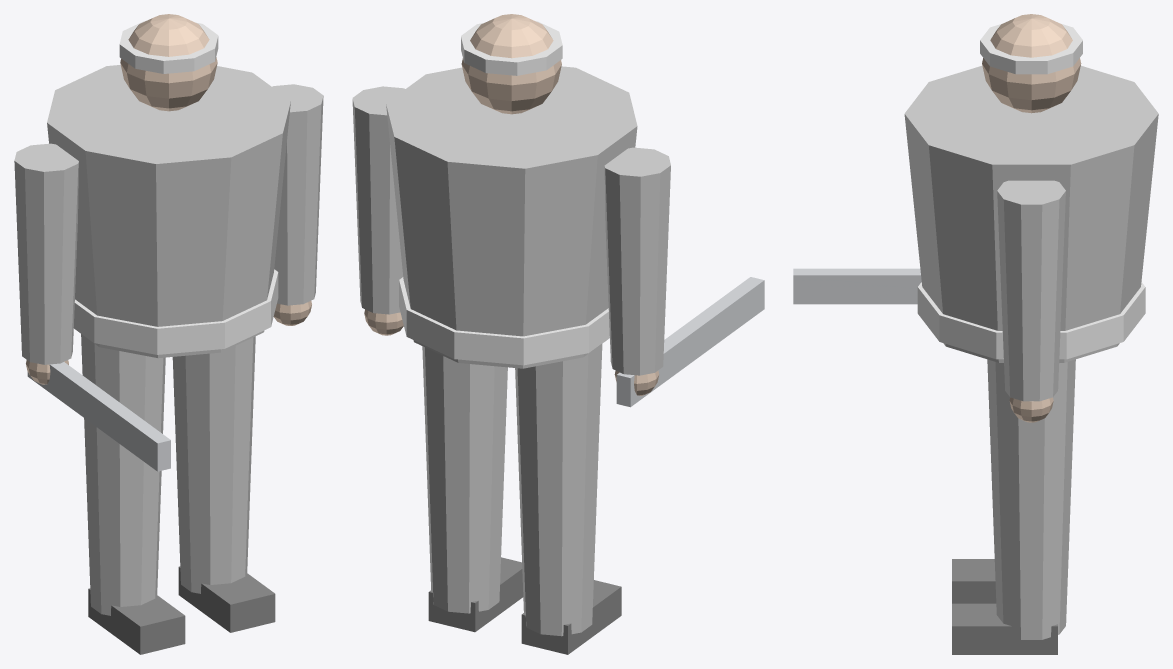
The picture shows the model from 3 angles, left to right: view 1: azimuth 30°, elevation 25°; view 2: azimuth 150°, elevation 25°; view 3: azimuth 270°, elevation 25°; orthographic projection. The views are drawn at different scales.
Parts seen in each view (by area): view 1: torso, thighL, thighR, armR, armL, belt, head, sword, footR, footL, band, handL; view 2: torso, thighR, thighL, armR, armL, belt, head, sword, footR, footL, band, handL; view 3: torso, thighL, armL, head, belt, sword, footL, band, footR, handL.
Boxes of the visible parts, left/top/right/bottom form: torso: left=47, top=65, right=290, bottom=358; thighL: left=172, top=336, right=255, bottom=593; thighR: left=81, top=334, right=165, bottom=615; armR: left=14, top=143, right=78, bottom=364; armL: left=272, top=84, right=323, bottom=305; belt: left=73, top=269, right=278, bottom=354; head: left=120, top=14, right=217, bottom=111; sword: left=27, top=362, right=170, bottom=471; footR: left=88, top=588, right=185, bottom=654; footL: left=178, top=566, right=275, bottom=632; band: left=119, top=21, right=218, bottom=73; handL: left=273, top=301, right=311, bottom=325; torso: left=386, top=66, right=637, bottom=368; thighR: left=515, top=344, right=602, bottom=636; thighL: left=422, top=346, right=507, bottom=613; armR: left=604, top=147, right=670, bottom=375; armL: left=352, top=86, right=405, bottom=314; belt: left=399, top=277, right=609, bottom=365; head: left=461, top=14, right=561, bottom=114; sword: left=616, top=277, right=764, bottom=407; footR: left=521, top=580, right=621, bottom=654; footL: left=428, top=557, right=523, bottom=632; band: left=461, top=21, right=562, bottom=75; handL: left=364, top=309, right=403, bottom=335; torso: left=904, top=65, right=1158, bottom=362; thighL: left=987, top=359, right=1075, bottom=639; armL: left=997, top=180, right=1065, bottom=401; head: left=982, top=14, right=1081, bottom=113; belt: left=917, top=282, right=1145, bottom=359; sword: left=793, top=268, right=921, bottom=304; footL: left=952, top=603, right=1057, bottom=654; band: left=980, top=24, right=1082, bottom=74; footR: left=952, top=559, right=996, bottom=603; handL: left=1009, top=397, right=1053, bottom=422.
Bounding box in the file's own units: 0.6636 × 1.26 × 0.69.
